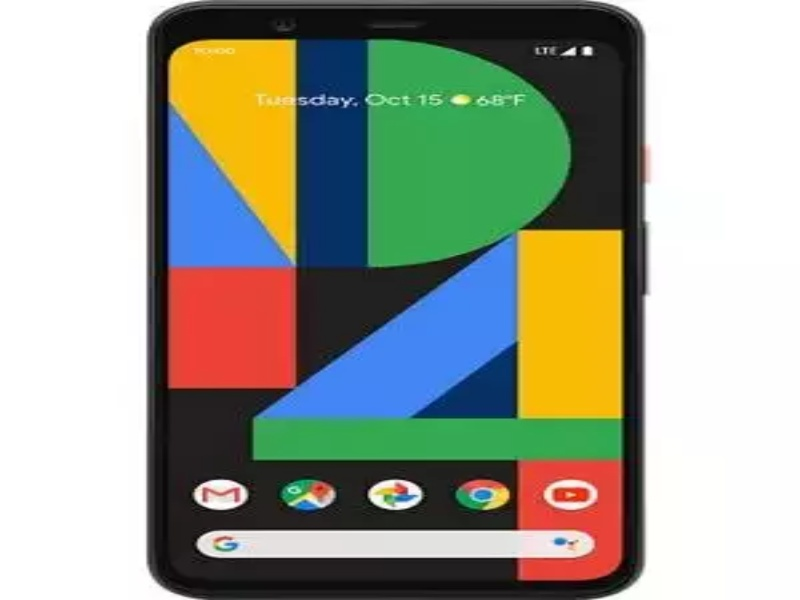mobile: (136, 3, 655, 600)
